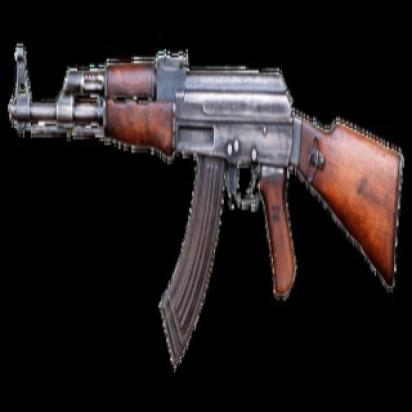Gun: (5, 37, 399, 369)
